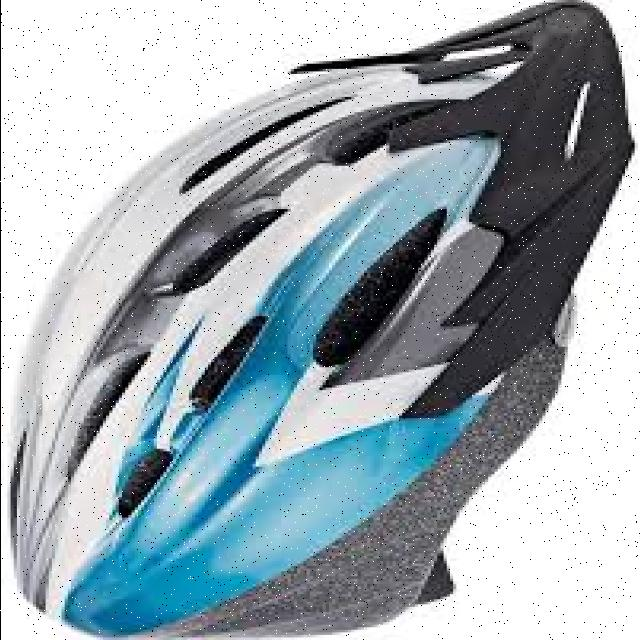Helmet: (9, 4, 631, 637)
